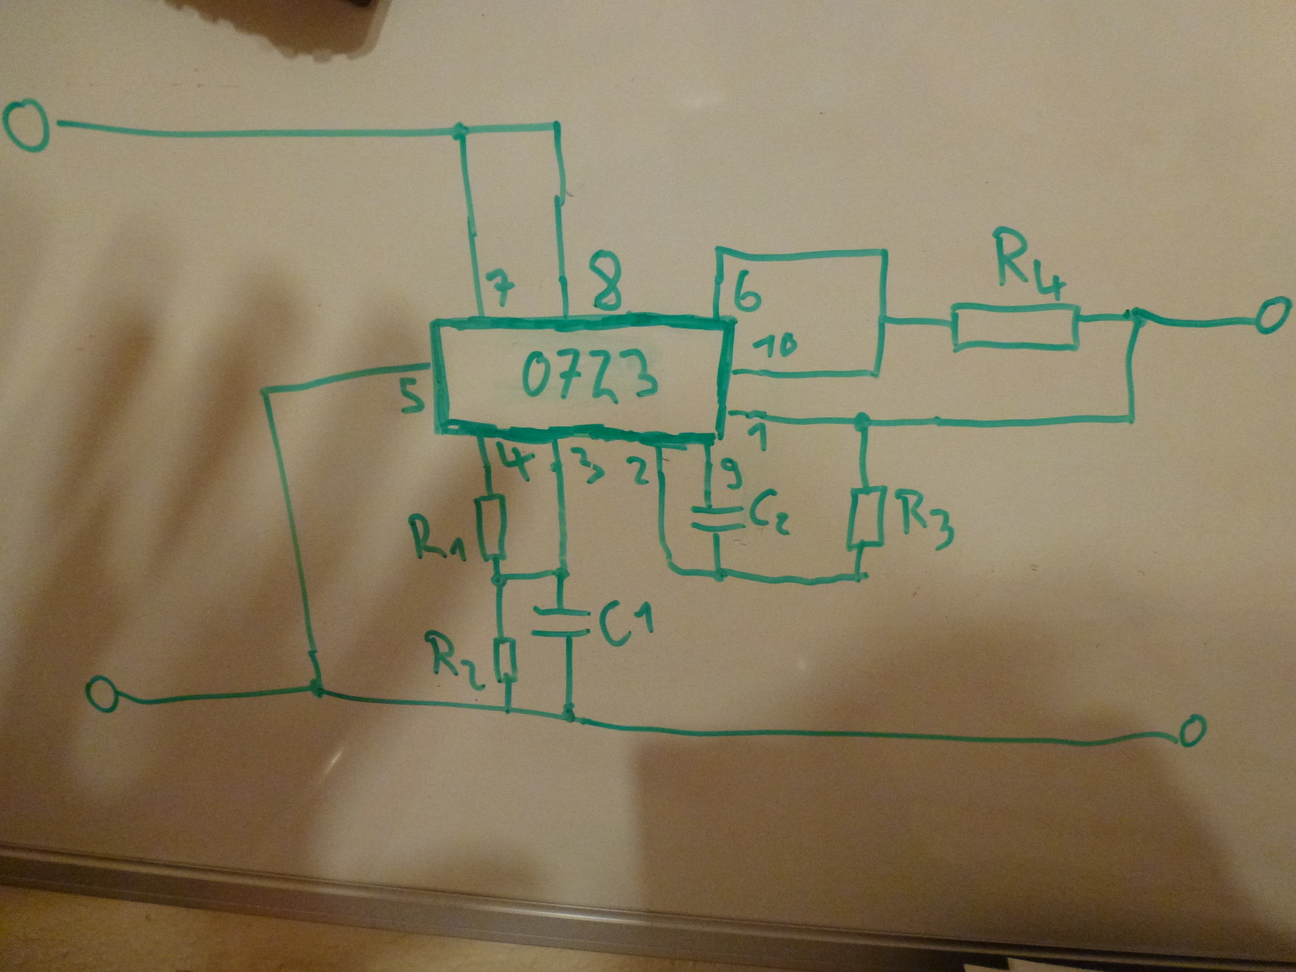capacitor.unpolarized: (529, 593, 596, 653), (687, 494, 748, 543)
integrated_circuit: (428, 312, 738, 450)
junction: (1119, 302, 1157, 333), (444, 118, 478, 147), (849, 407, 879, 438), (541, 111, 572, 139), (304, 673, 330, 702), (656, 550, 680, 582), (554, 701, 581, 728), (485, 568, 513, 592), (707, 562, 732, 590), (871, 239, 895, 262), (549, 562, 574, 584), (873, 308, 895, 332), (1120, 405, 1141, 431), (847, 567, 870, 587), (711, 239, 732, 261), (254, 381, 275, 401), (499, 700, 517, 719), (866, 362, 884, 382)
resistor: (943, 296, 1089, 360), (470, 485, 522, 567), (843, 476, 890, 557), (487, 628, 526, 692)
terminal: (1, 87, 64, 165), (80, 671, 130, 723), (1246, 290, 1296, 341), (1167, 706, 1217, 756)
text: (515, 344, 666, 409), (989, 224, 1075, 302), (891, 484, 967, 556), (418, 626, 489, 695), (402, 509, 468, 571), (596, 597, 659, 653), (582, 246, 633, 313), (746, 485, 797, 540), (493, 439, 541, 486), (567, 442, 608, 488), (482, 264, 518, 309), (733, 265, 765, 315), (752, 329, 801, 361), (393, 374, 428, 420), (620, 451, 654, 488), (746, 418, 774, 454), (719, 456, 747, 492)
